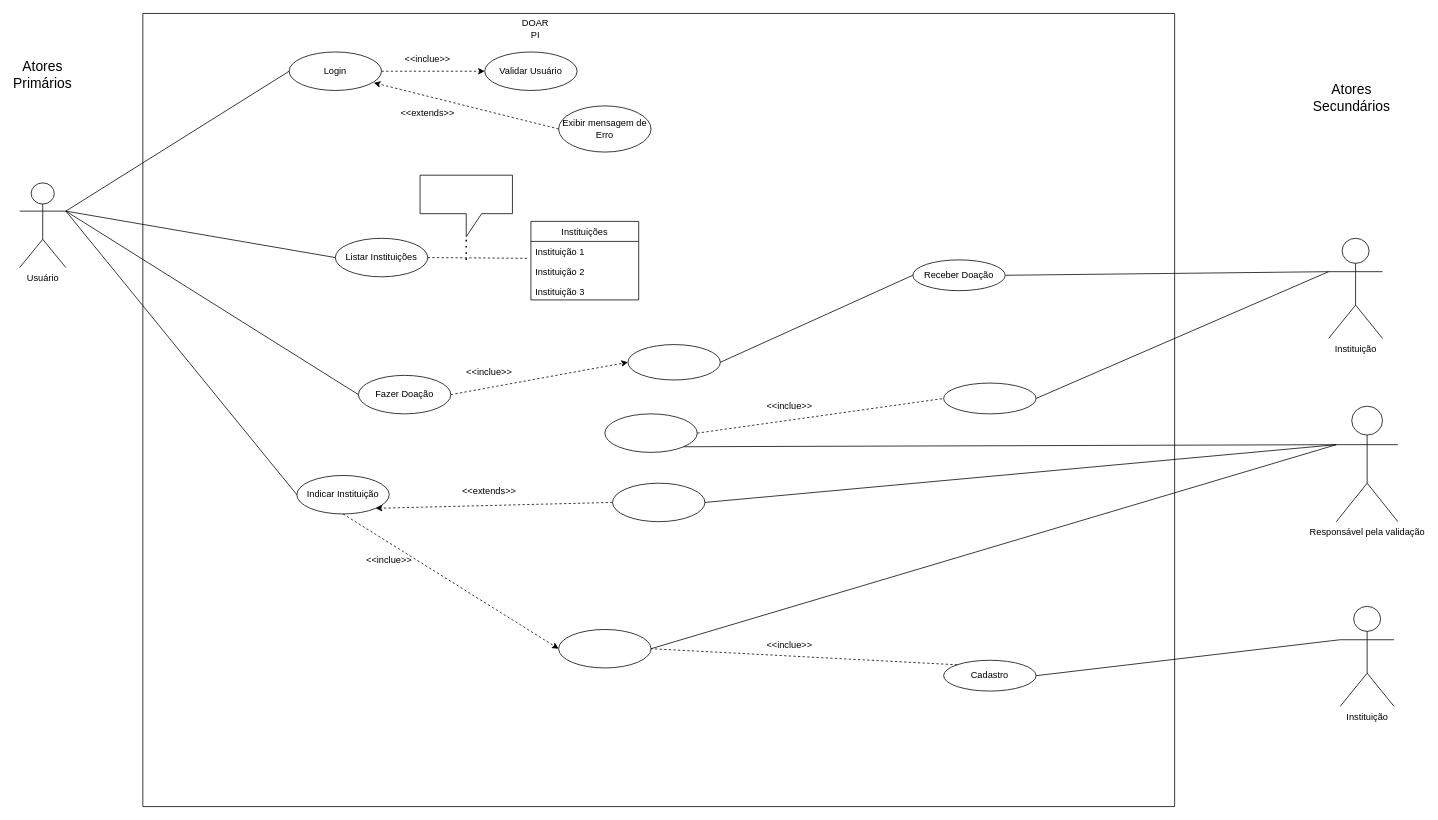
Some shapes in this 1438 by 820 pixel diagram are drawn without their labels. The centre of each missing label's shape, as x and y in pixels:
Conferir Prestação de Contas: point (650, 432)
Doar: point (673, 362)
Exibe uma lista ao usuário a lista de todas as instituições: point (465, 205)
Insere na Lista: point (658, 502)
Prestar Conta: point (989, 398)
Validar Instituicão: point (604, 648)
